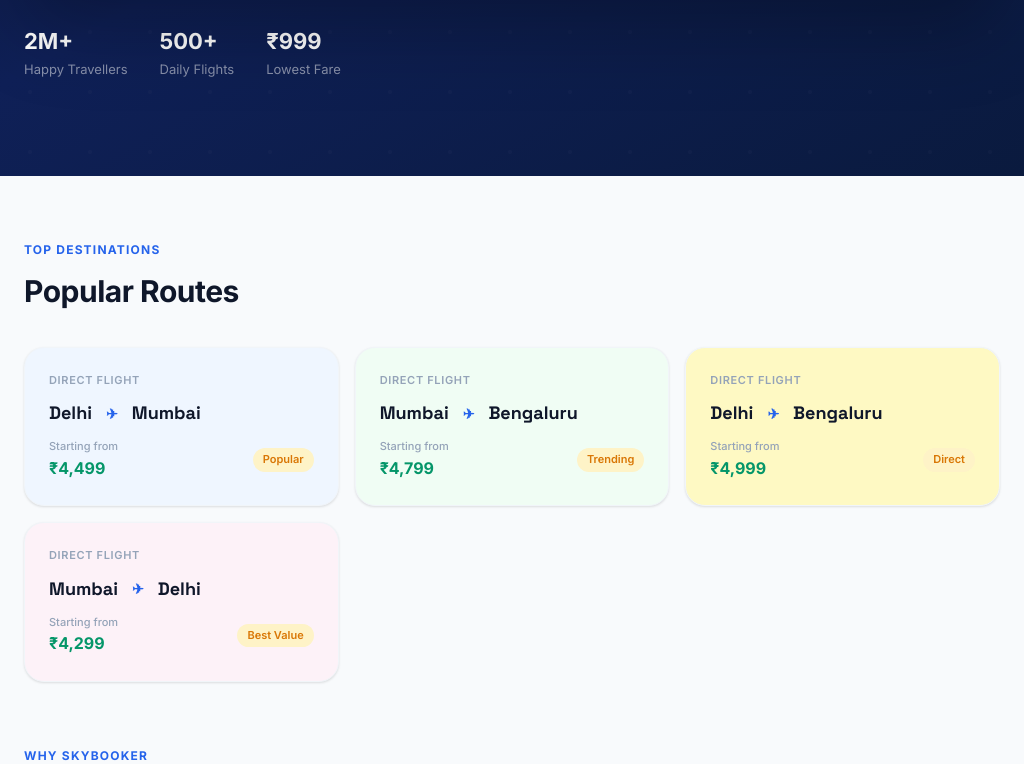
Scenario: HomePage — popular routes & CTA › clicking a popular route card pre-fills From and To fields
The image size is (1024, 764).
(page scrolled)
Note: First card is Delhi → Mumbai
What coordinates should you click on to do the following:
click the 1st text "Direct Flight"
I would click on:
 (94, 380)
Its box is [49, 373, 140, 387].
(page scrolled)
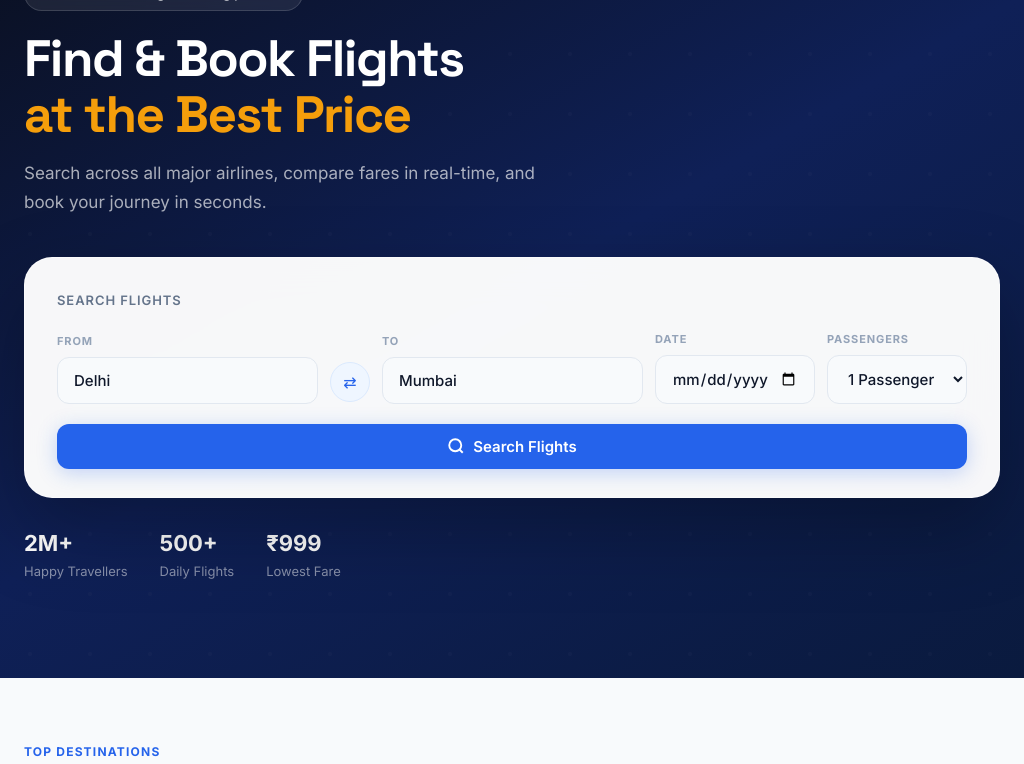
expect the 1st field with placeholder "City or airport" holds "Delhi": met, box [57, 357, 318, 404]
expect the 2nd field with placeholder "City or airport" holds "Mumbai": met, box [382, 357, 643, 404]
